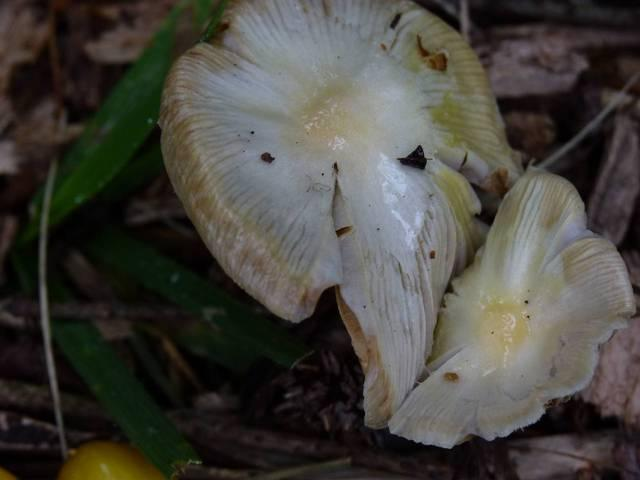edible_mushroom: (155, 2, 527, 330), (386, 167, 636, 449)
